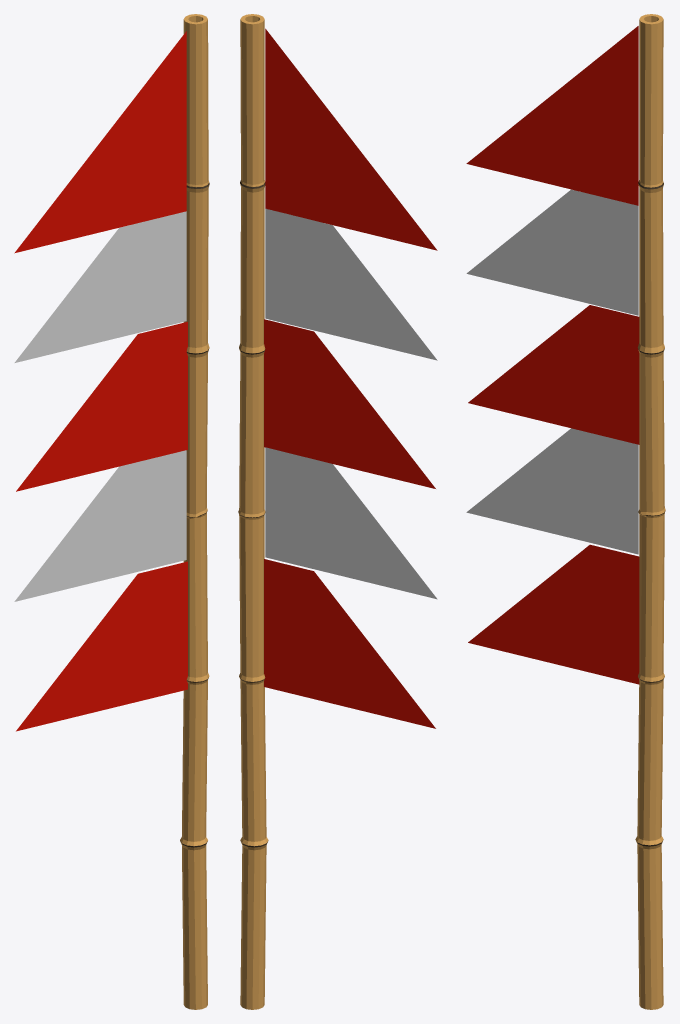
Rendered from TiangBenderaBambu.fbx.
3 renders of one model, left to right at view 1: azimuth 30°, elevation 25°; view 2: azimuth 150°, elevation 25°; view 3: azimuth 330°, elevation 25°, orthographic.
Visible parts, largest first — view 1: Bamboo, Flags, Plane.004, Plane.002, Plane.001, Plane.003; view 2: Bamboo, Flags, Plane.004, Plane.002, Plane.003, Plane.001; view 3: Bamboo, Flags, Plane.004, Plane.002, Plane.001, Plane.003.
Boxes of the visible parts, box(x1,y1,x2,y2) form: Bamboo: box(180, 14, 209, 1009); Flags: box(14, 31, 186, 253); Plane.004: box(16, 561, 187, 731); Plane.002: box(16, 322, 187, 491); Plane.001: box(14, 211, 186, 362); Plane.003: box(14, 450, 186, 601); Bamboo: box(238, 14, 268, 1009); Flags: box(265, 28, 437, 250); Plane.004: box(264, 559, 435, 728); Plane.002: box(264, 319, 435, 488); Plane.003: box(265, 447, 437, 599); Plane.001: box(265, 208, 437, 360); Bamboo: box(635, 14, 665, 1009); Flags: box(466, 26, 638, 205); Plane.004: box(468, 544, 639, 684); Plane.002: box(468, 305, 639, 444); Plane.001: box(466, 189, 638, 315); Plane.003: box(466, 428, 638, 554).
Bounding box in the file's own units: 58.88 × 284 × 7.86.
